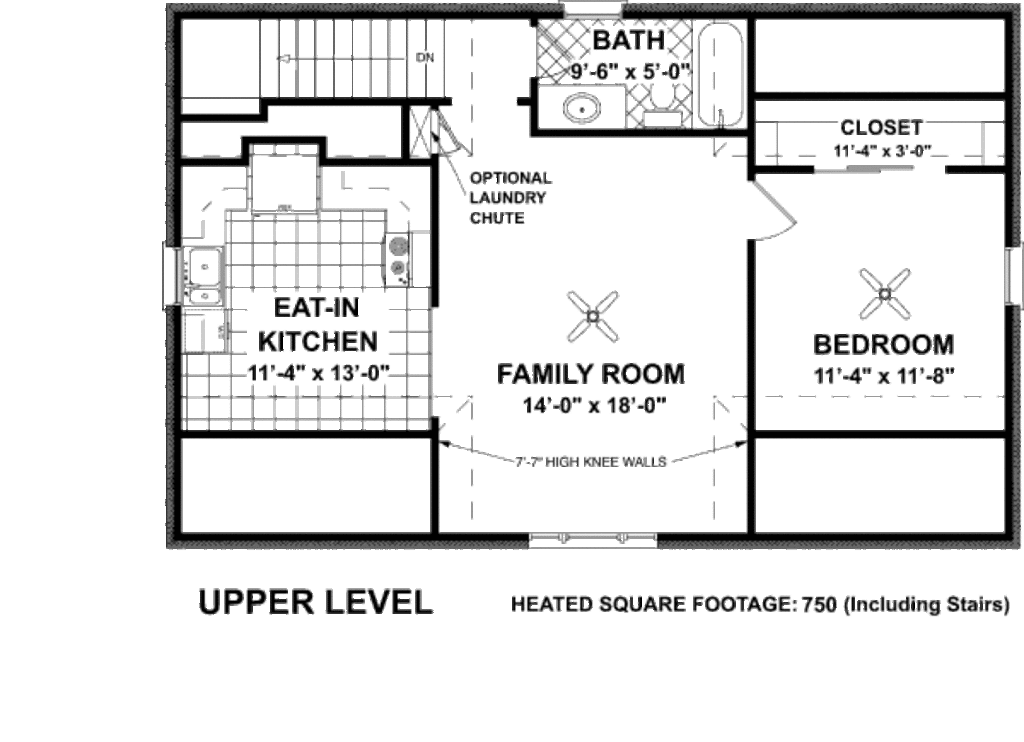door: (745, 174, 802, 239)
large_sink: (645, 66, 685, 128)
small_sink: (539, 83, 626, 135)
stairs: (176, 12, 463, 103)
tub: (693, 11, 746, 128)
twin_sink: (186, 243, 224, 307)
window: (1001, 241, 1024, 307), (559, 1, 629, 16), (162, 239, 176, 306)
